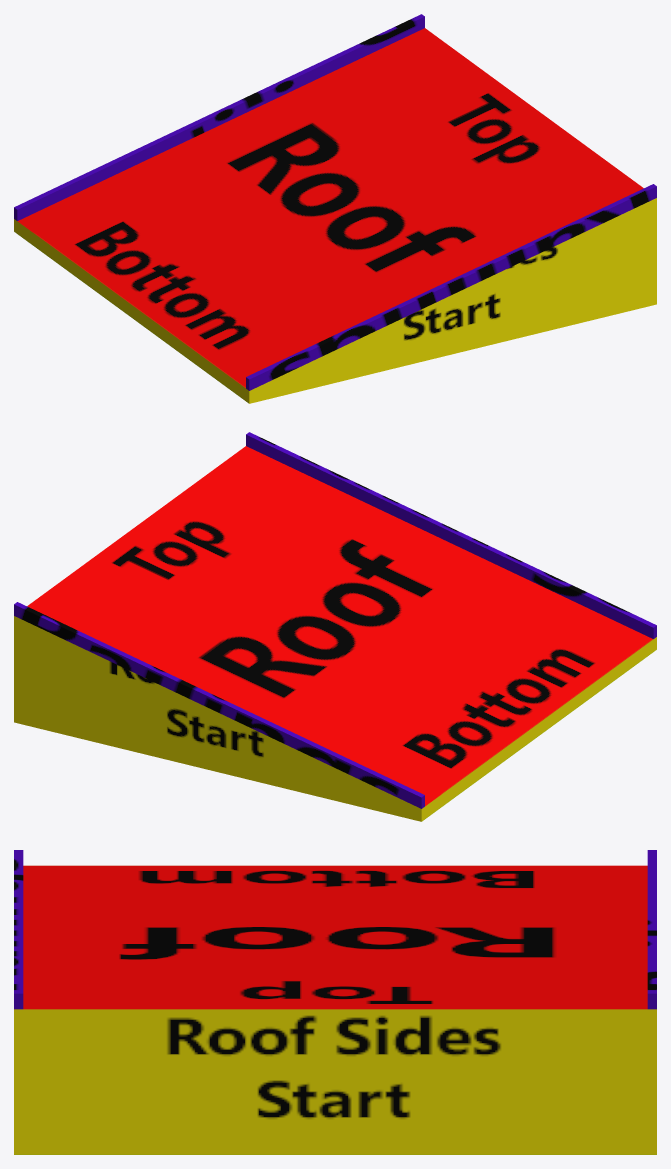
Rendered from ENV_Roof1x1TypeTwo.fbx.
3 views of the same model, one above another, from view 1: azimuth 30°, elevation 25°; view 2: azimuth 150°, elevation 25°; view 3: azimuth 270°, elevation 25° (orthographic). The views are drawn at different scales.
Visible parts, largest first — view 1: OneXOneRoofTwo; view 2: OneXOneRoofTwo; view 3: OneXOneRoofTwo.
Boxes of the visible parts, left/top/right/bottom form: OneXOneRoofTwo: left=14, top=14, right=656, bottom=403; OneXOneRoofTwo: left=14, top=432, right=656, bottom=821; OneXOneRoofTwo: left=14, top=850, right=656, bottom=1154.
Bounding box in the file's own units: 12 × 3.32 × 12.
1 material, 1 textured.
